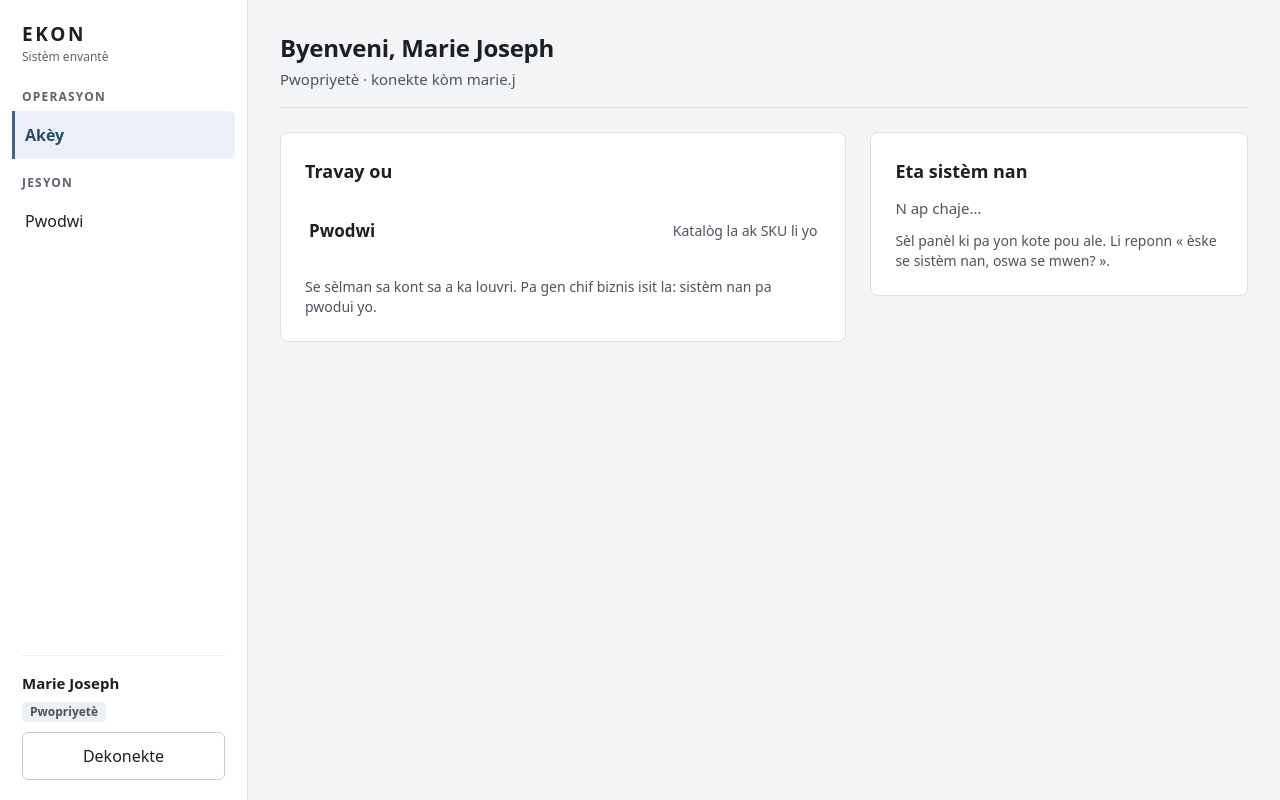
Test: merchandise identity › carries no quantity, no location and no total anywhere
The width and height of the screenshot is (1280, 800).
Expected: the text "Marie Joseph" is shown, [22,672,119,692]
Click the button "Pwodwi".
click(124, 220)  # box [12,196,235,244]
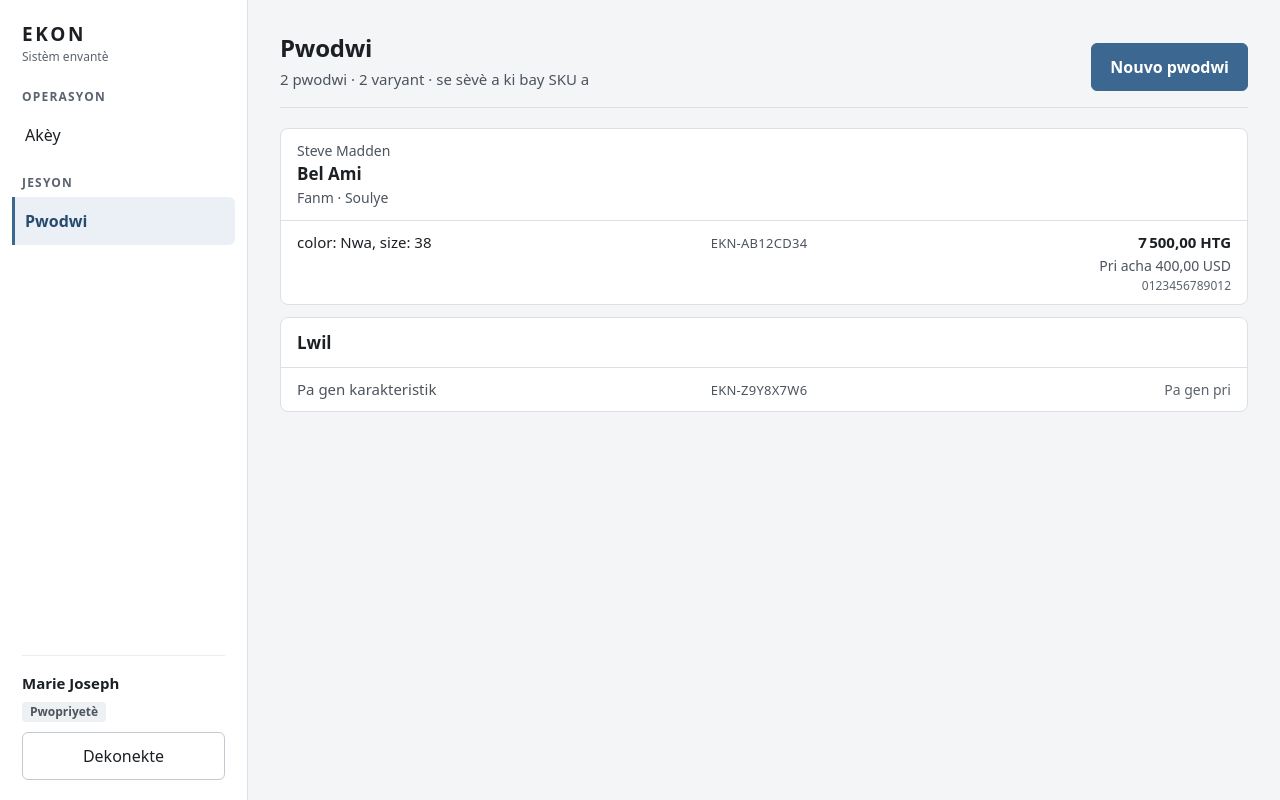
Expected: the heading "Pwodwi" is shown, [280,31,372,64]
